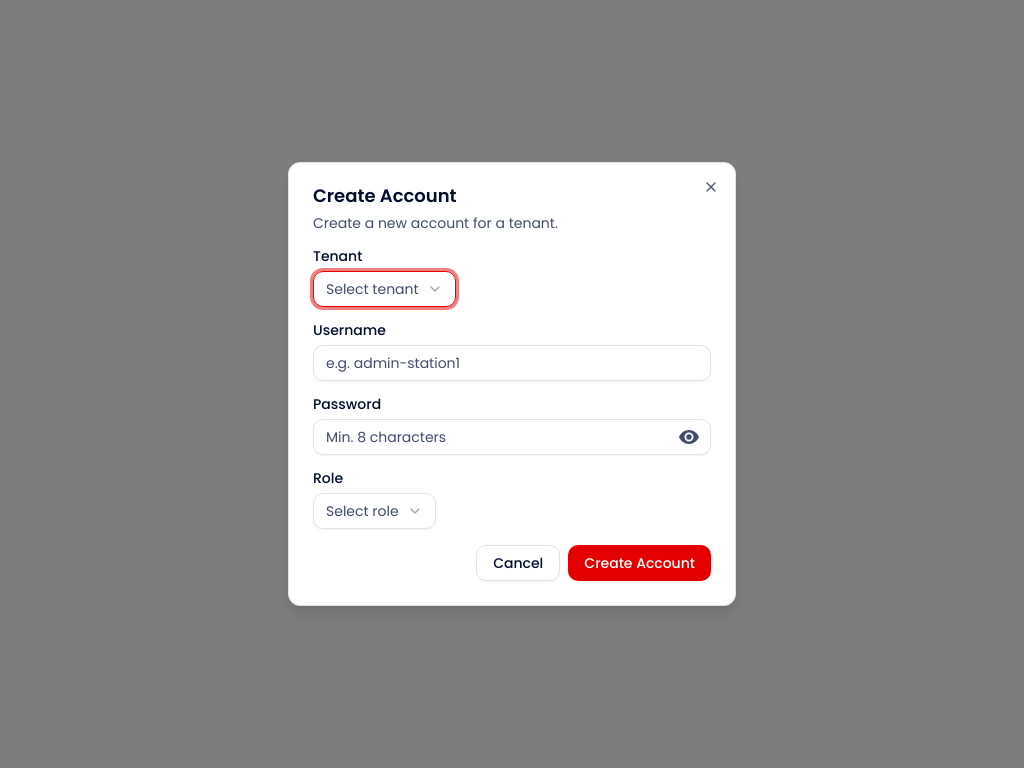
Test: AccountCreateDialog › shows username error for invalid characters
Type "User@Name" into the field with placeholder "e.g. admin-station1". click: (512, 363)
box: x1=313 y1=345 x2=711 y2=381
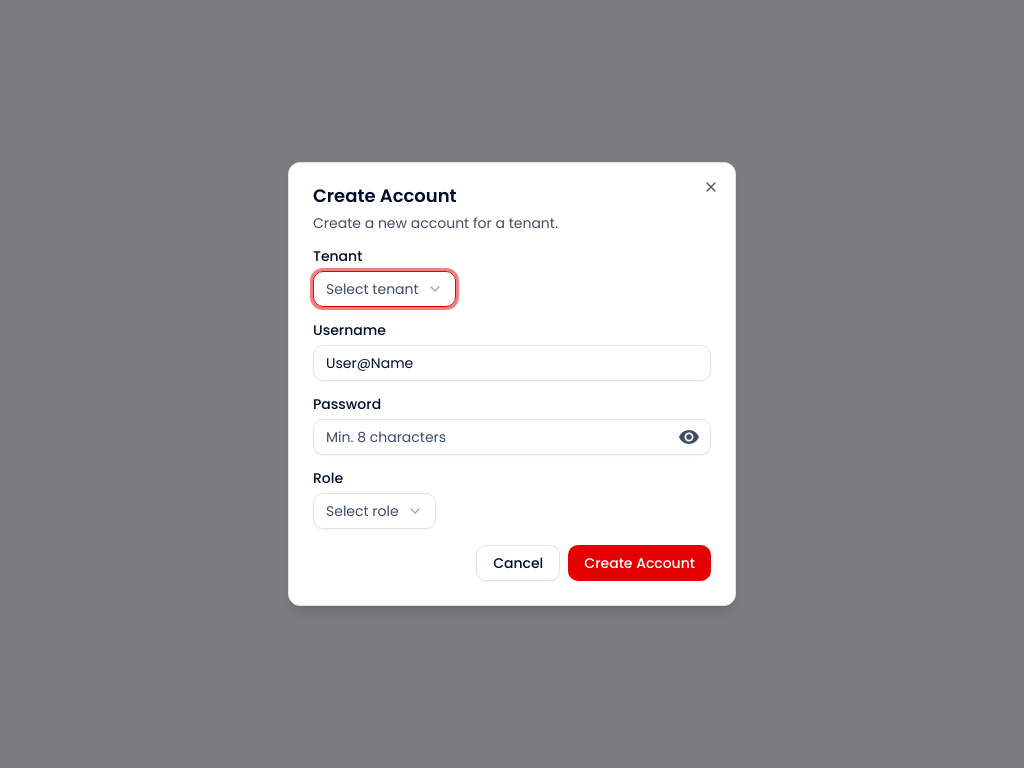
Leave the field with placeholder "e.g. admin-station1", box x1=313 y1=345 x2=711 y2=381
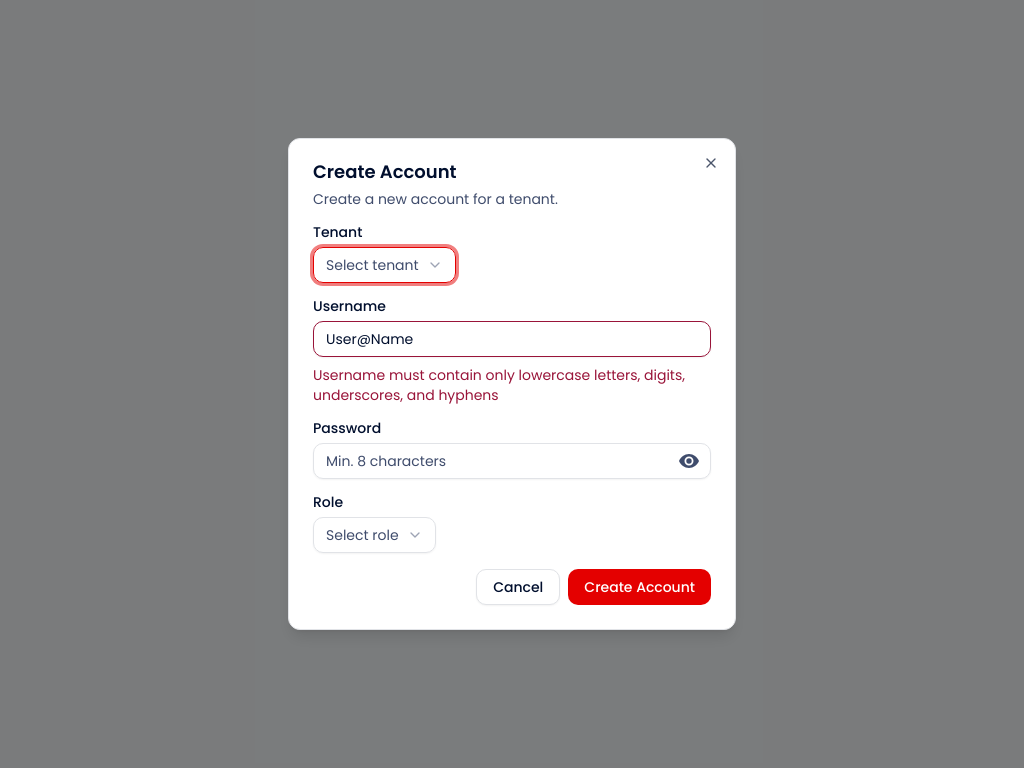
Result: the text "lowercase letters" is shown at x1=313 y1=365 x2=685 y2=405
